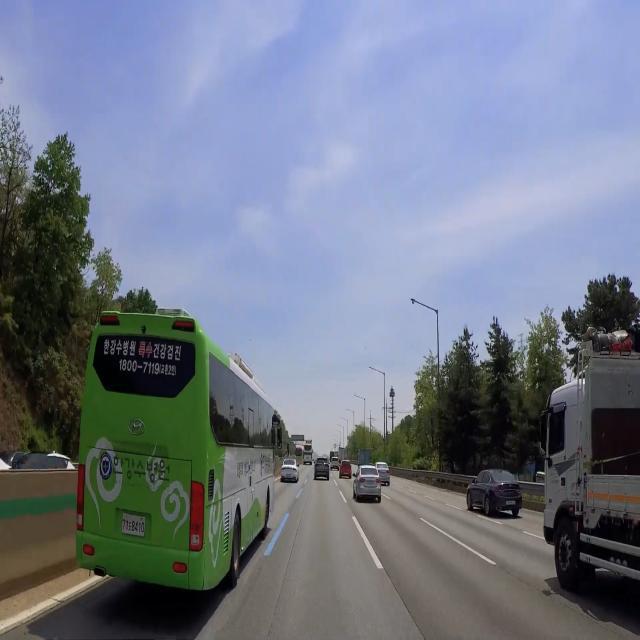car: (117, 511, 150, 541), (502, 496, 520, 510), (362, 478, 378, 491), (379, 472, 389, 482), (284, 472, 293, 483), (317, 465, 328, 474), (343, 472, 351, 477)
